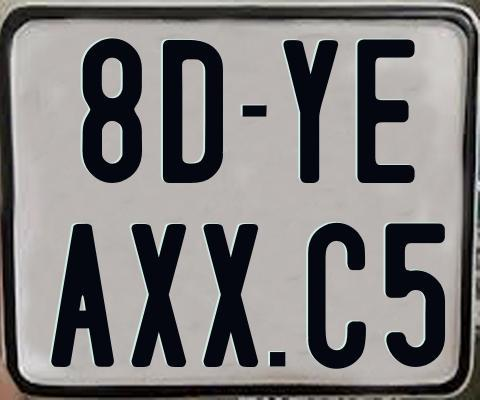5: (385, 221, 450, 369)
8: (81, 35, 144, 186)
A: (51, 223, 118, 372)
C: (306, 223, 367, 371)
D: (162, 37, 227, 182)
E: (354, 38, 414, 186)
X: (201, 221, 262, 370), (128, 223, 187, 369)
Y: (283, 39, 339, 182)
